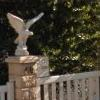Statue: (2, 4, 46, 65)
